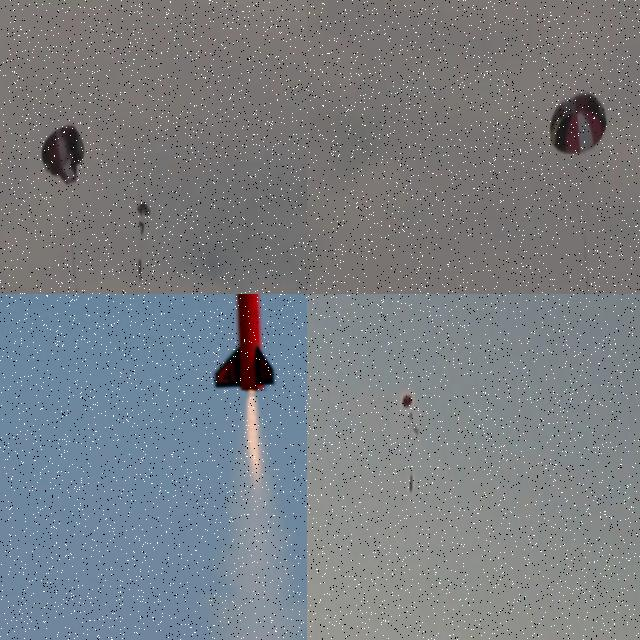Rocket: (214, 294, 276, 392), (409, 473, 413, 492)
